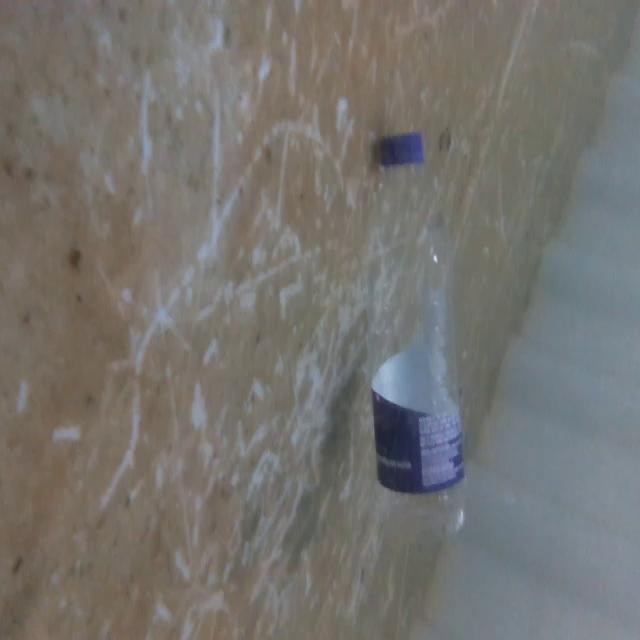plastic bottle: (361, 122, 479, 554)
